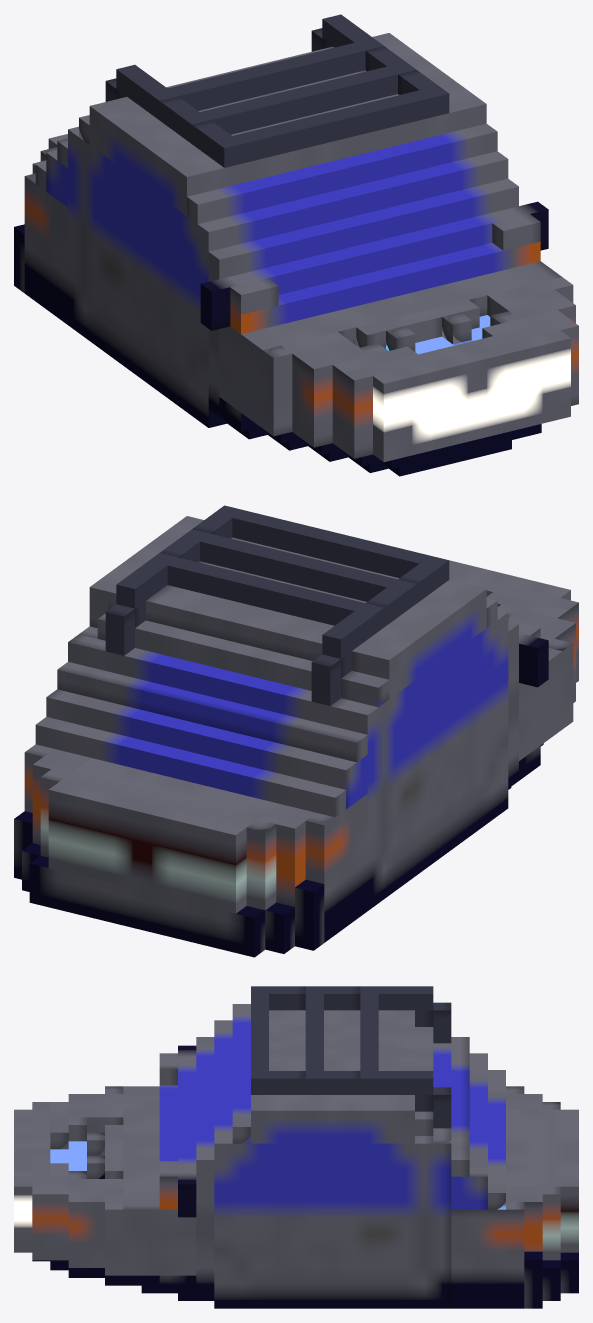
Rendered from auto_01.dae.
The picture shows the model from 3 angles, top to bottom: view 1: azimuth 30°, elevation 25°; view 2: azimuth 150°, elevation 25°; view 3: azimuth 270°, elevation 25°; orthographic projection. The views are drawn at different scales.
Parts seen in each view (by area): view 1: Content; view 2: Content; view 3: Content.
Part boxes in pixels (x1,y1,x2,y2): Content: (14, 14, 578, 476); Content: (14, 505, 578, 957); Content: (14, 986, 578, 1308).
Bounding box in the file's own units: 18 × 13 × 31.
1 material, 1 textured.
